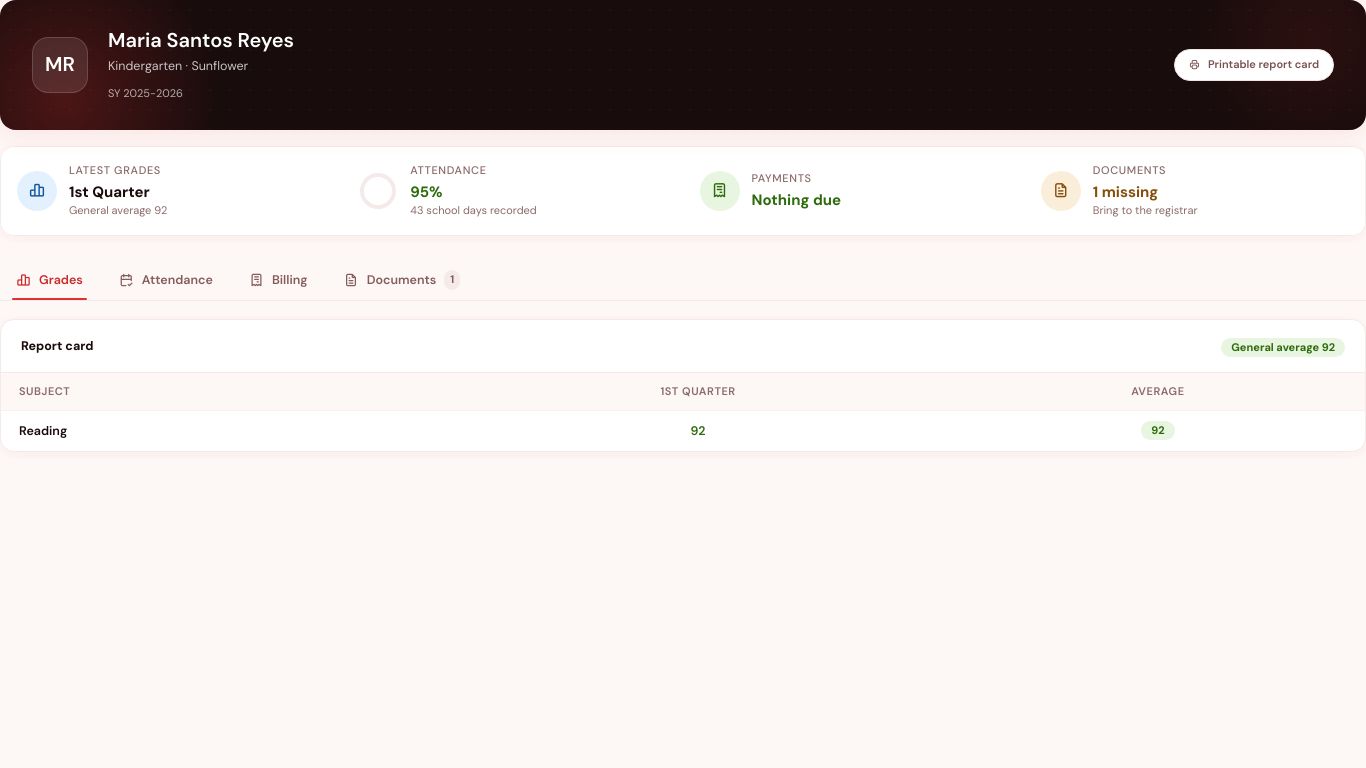
Test: GuardianChildPage — cancelled invoices › lists it as cancelled, with no schedule
Expected: the heading "Maria Santos Reyes" is shown, [108, 27, 294, 53]
Click the tab "Billing" at point(278, 280), box [233, 261, 324, 300]
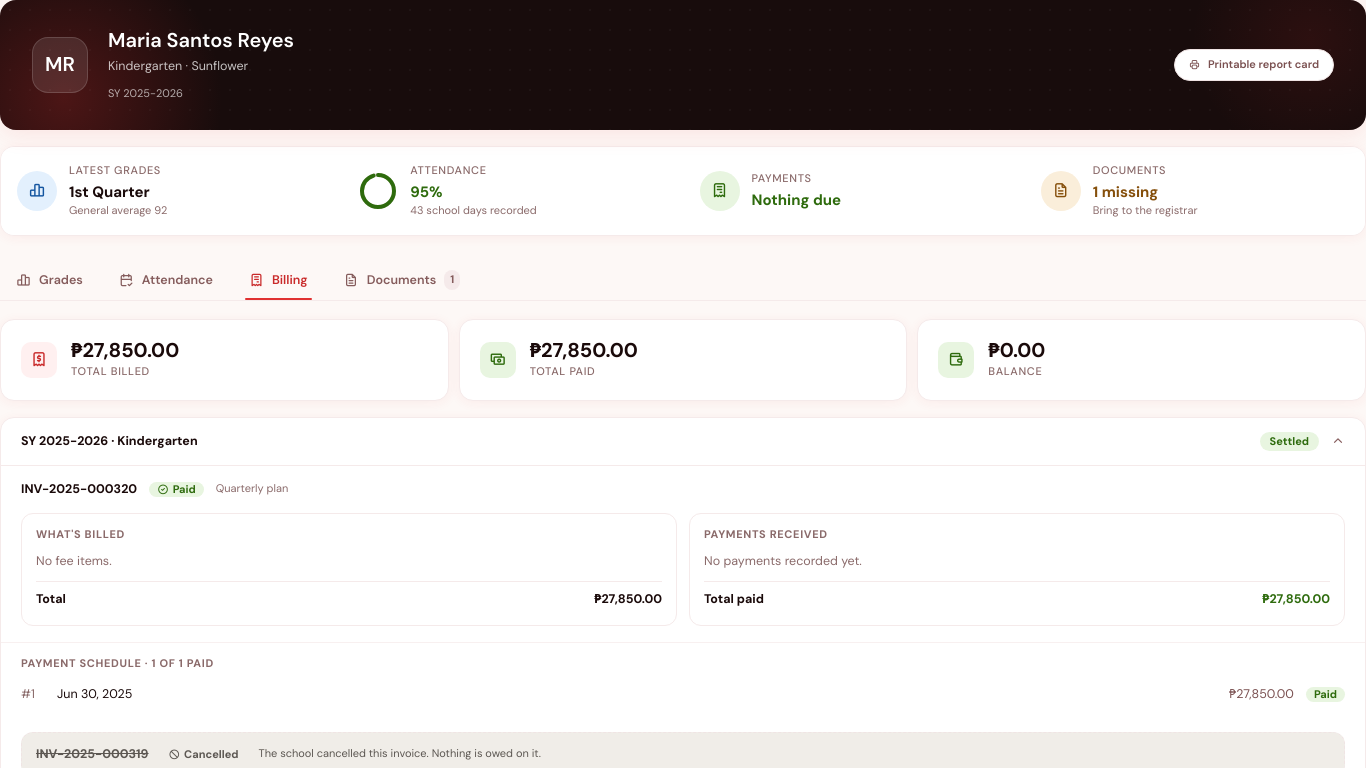
Now the text "Cancelled" is shown, box [161, 746, 246, 762]
Now the text "The school cancelled this invoice. Nothing is owed on it." is shown, box [258, 746, 541, 762]
